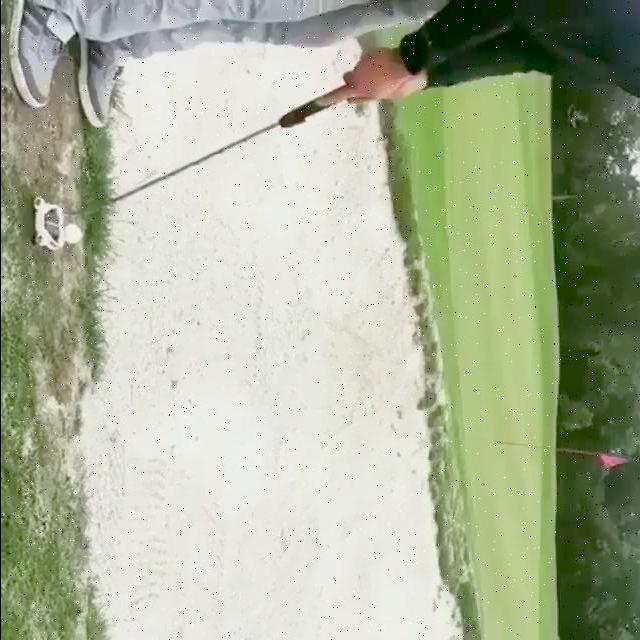ClubHandle: (30, 88, 356, 253)
ClubHead: (34, 194, 66, 250)
GolfBall: (62, 228, 80, 245)
